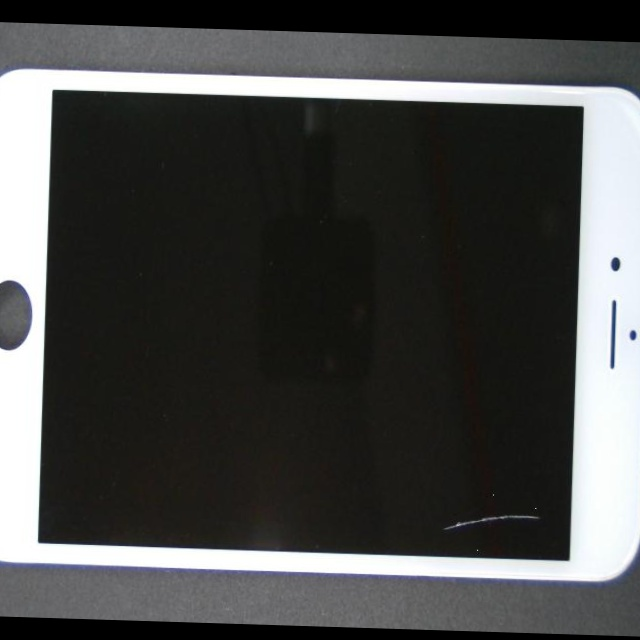scratch: (309, 246, 640, 637)
